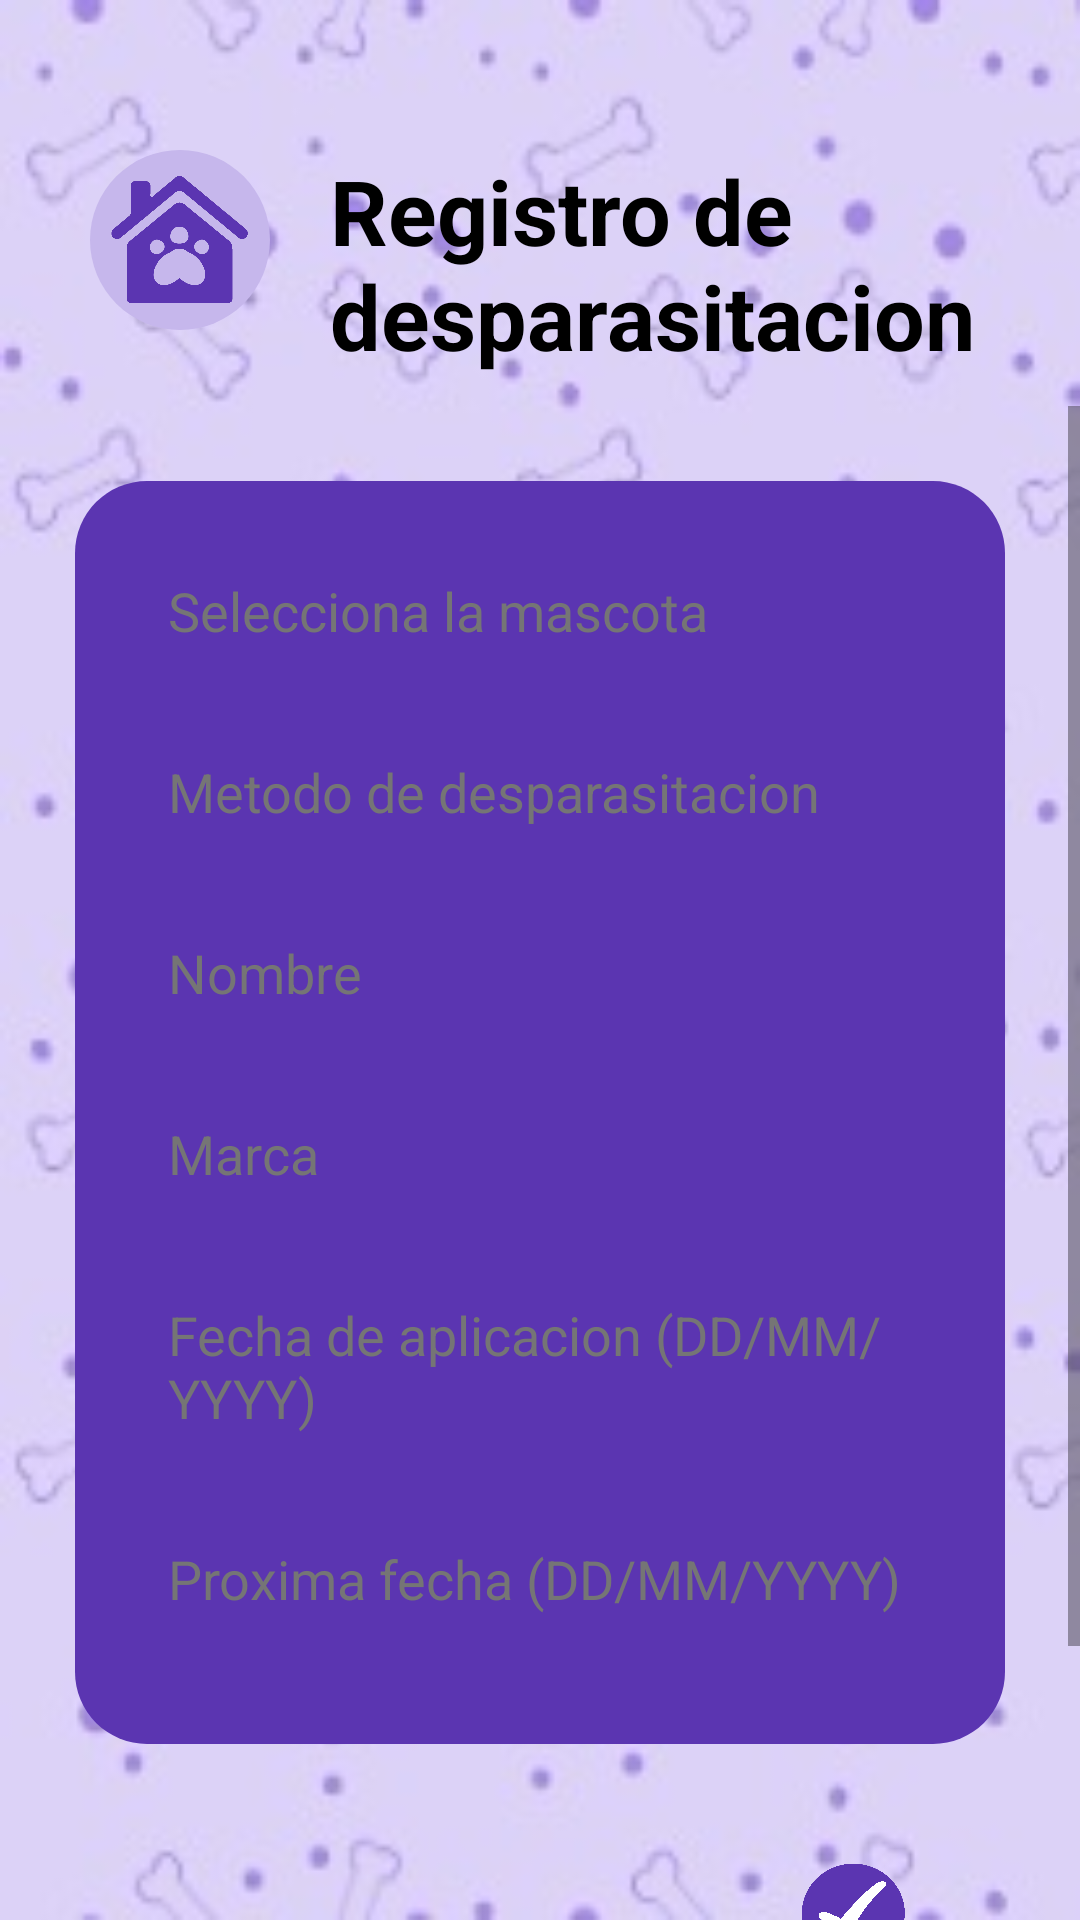

Named icons in this screenshot (1080 × 1920) and their bounding boxes, (x1, y1, x2, y2):
Volver al inicio: (90, 150, 270, 330)
